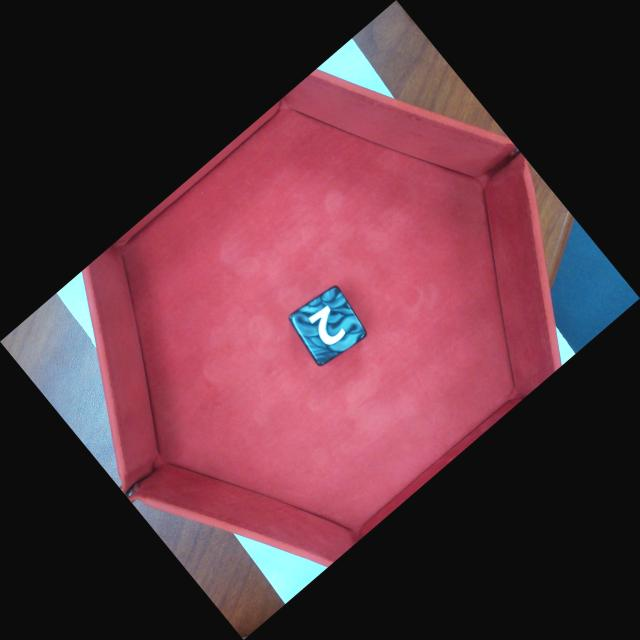dice: (287, 284, 368, 369)
